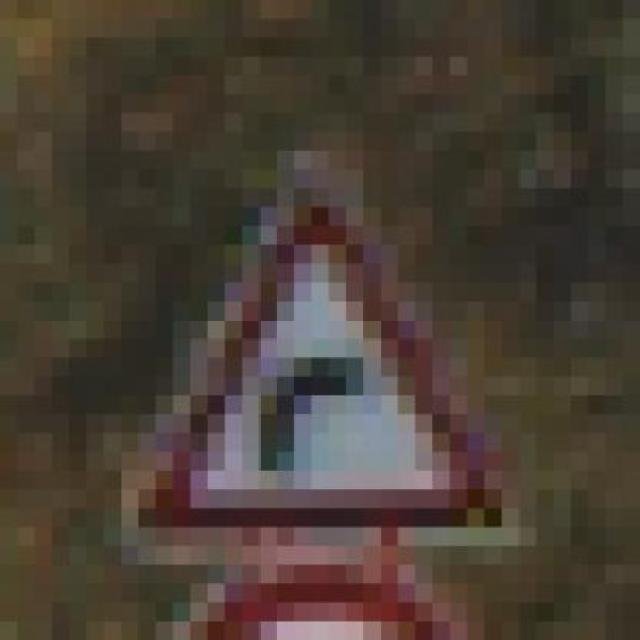Dangerous Rright Curve Ahead: (86, 188, 537, 546)
